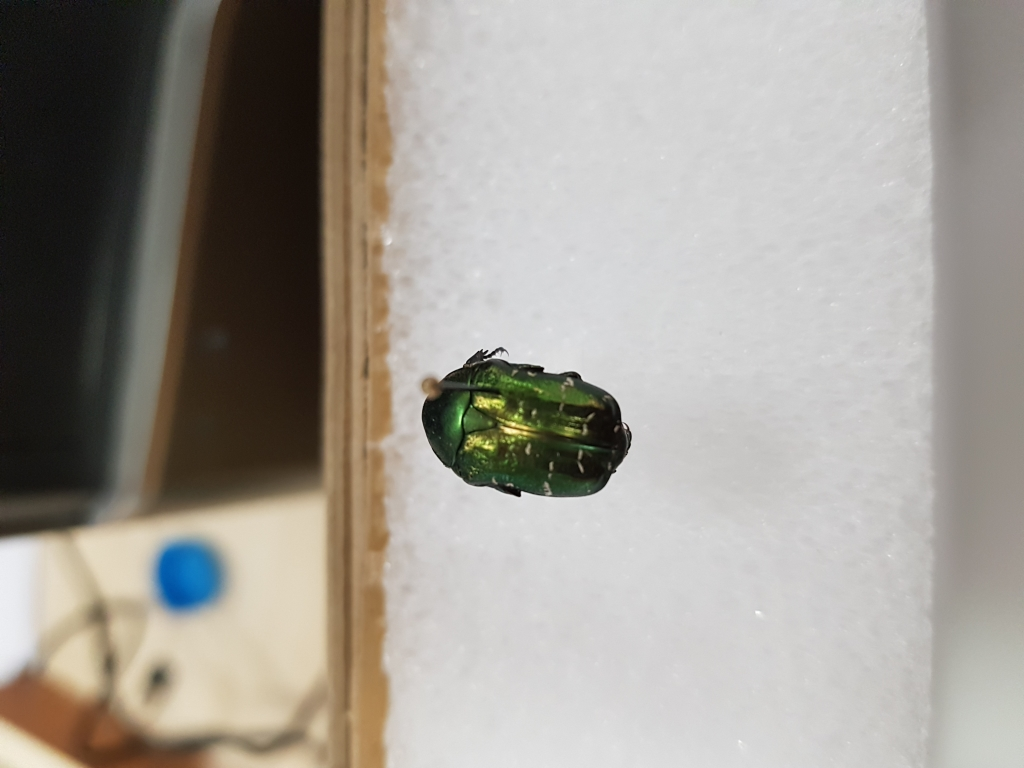Cetonia_kemali: (411, 347, 646, 505)
